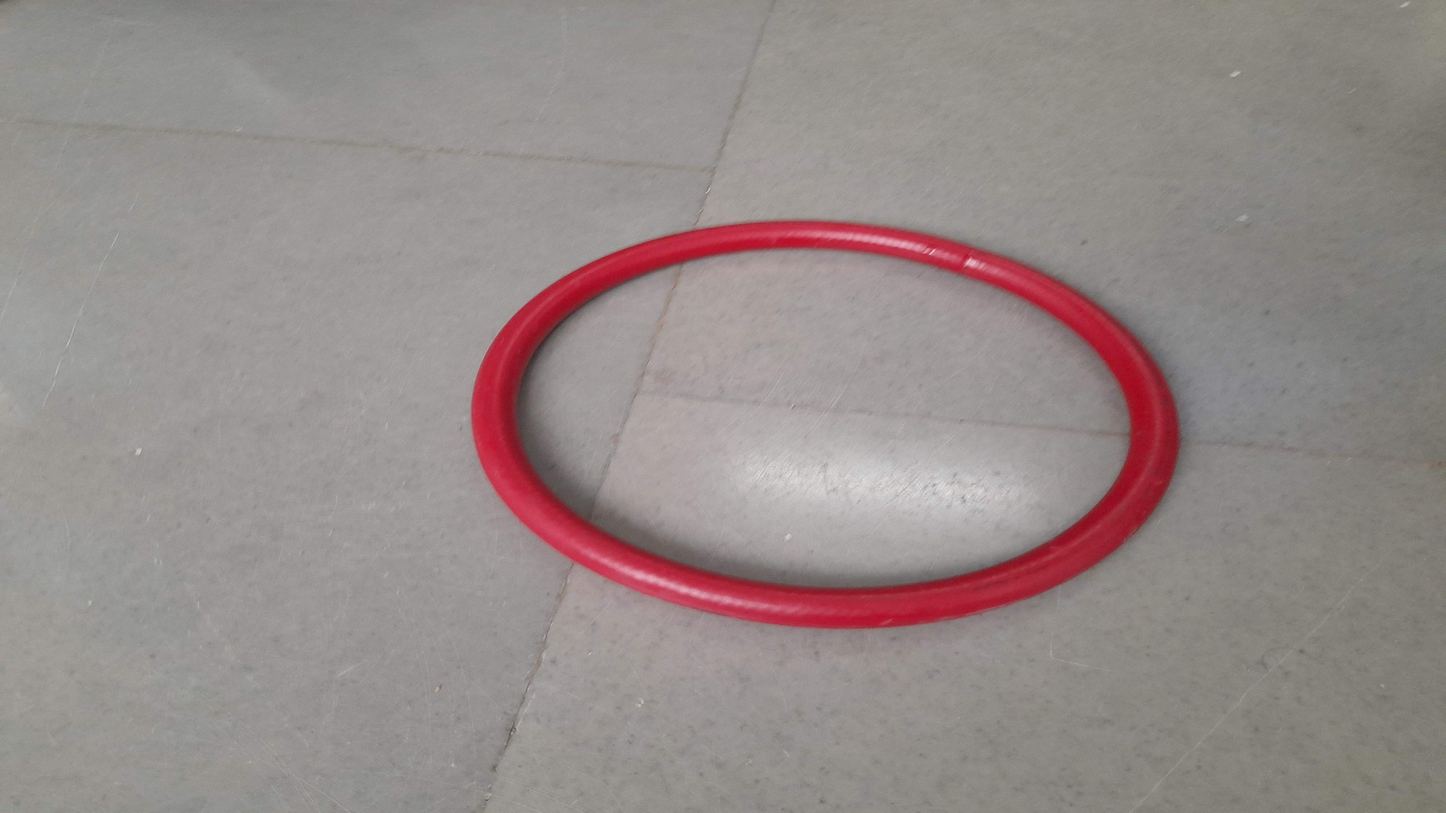Red ring: (472, 220, 1181, 629)
